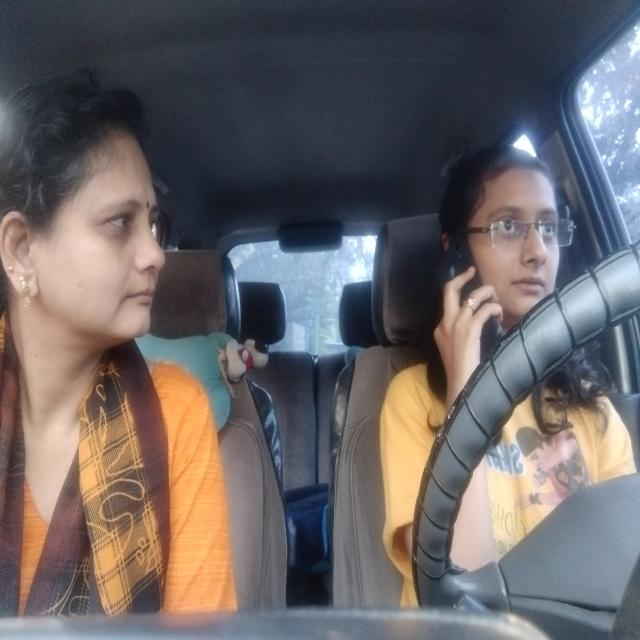mobile: (425, 229, 505, 362)
person: (0, 71, 174, 379), (437, 136, 588, 338)
